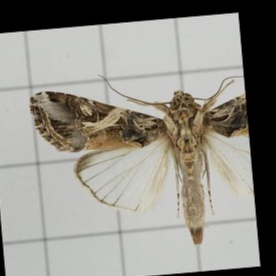Spodoptera litura: (34, 70, 250, 249)
